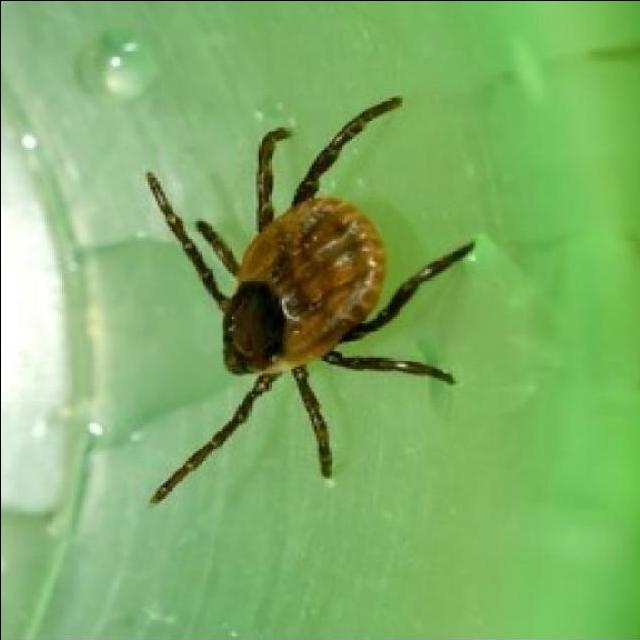Rhipicephalus Sanguineus-F: (147, 100, 470, 504)
